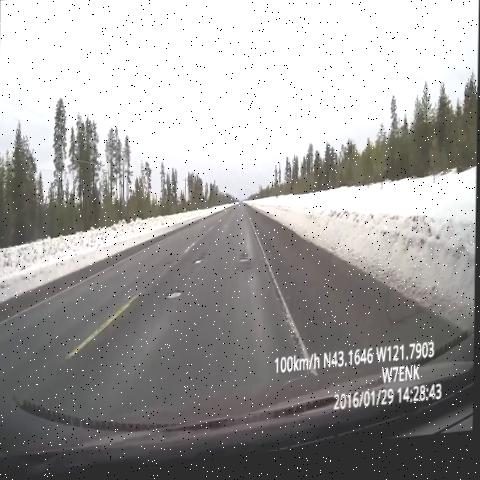pothole: (163, 285, 187, 316), (235, 252, 258, 277), (189, 255, 211, 279), (162, 258, 180, 275), (238, 216, 247, 230)
